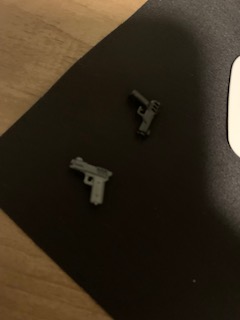pistol: (64, 153, 114, 209), (123, 84, 161, 139)
